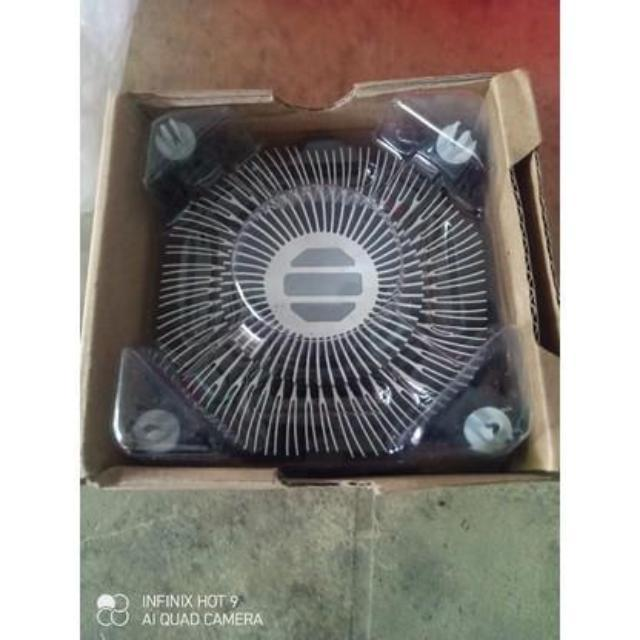CPU_Fan: (130, 100, 504, 478)
